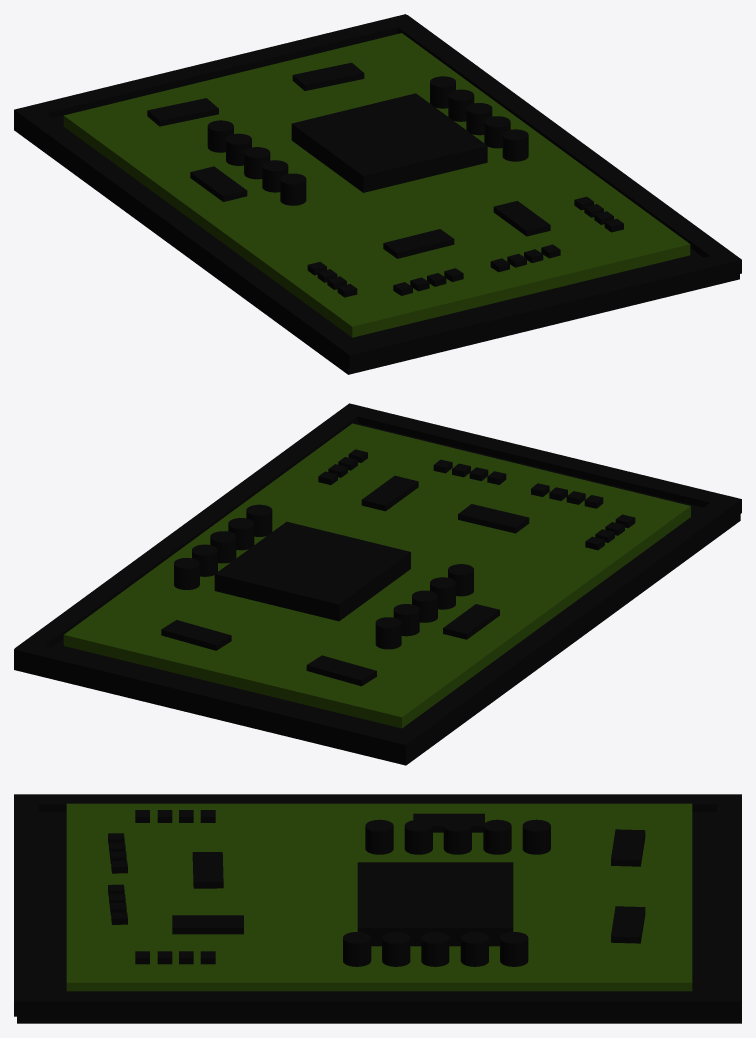
Rendered from PCB Board.fbx.
3 views of the same model, one above another, from view 1: azimuth 30°, elevation 25°; view 2: azimuth 150°, elevation 25°; view 3: azimuth 270°, elevation 25° (orthographic). The views are drawn at different scales.
Visible parts, largest first — view 1: Cube.005, Cube.014, Cube.001, Cube, Cube.003, Cube.004, Cube.002, Cube.012, Cube.011, Cube.015, Cube.006, Cube.013 (+10 smaller); view 2: Cube.005, Cube.014, Cube, Cube.002, Cube.003, Cube.004, Cube.001, Cube.011, Cube.012, Cube.015, Cube.006, Cube.013 (+10 smaller); view 3: Cube.005, Cube.004, Cube, Cube.014, Cube.003, Cube.002, Cube.001, Cube.006, Cube.015, Cube.012, Cube.011, Cylinder (+10 smaller).
Boxes of the visible parts, bbox=[...] form: Cube.005: bbox=[63, 33, 690, 337]; Cube.014: bbox=[291, 93, 487, 192]; Cube.001: bbox=[338, 251, 736, 368]; Cube: bbox=[14, 115, 739, 374]; Cube.003: bbox=[16, 106, 369, 368]; Cube.004: bbox=[390, 15, 741, 278]; Cube.002: bbox=[14, 14, 416, 126]; Cube.012: bbox=[292, 62, 364, 90]; Cube.011: bbox=[383, 229, 454, 258]; Cube.015: bbox=[147, 98, 218, 126]; Cube.006: bbox=[493, 201, 550, 236]; Cube.013: bbox=[190, 166, 247, 201]; Cube.005: bbox=[63, 423, 690, 728]; Cube.014: bbox=[214, 521, 410, 621]; Cube: bbox=[14, 423, 740, 765]; Cube.002: bbox=[14, 641, 417, 758]; Cube.003: bbox=[388, 496, 741, 743]; Cube.004: bbox=[15, 403, 357, 649]; Cube.001: bbox=[339, 403, 741, 513]; Cube.011: bbox=[458, 504, 529, 533]; Cube.012: bbox=[161, 620, 231, 650]; Cube.015: bbox=[306, 655, 376, 686]; Cube.006: bbox=[361, 475, 418, 511]; Cube.013: bbox=[443, 604, 499, 639]; Cube.005: bbox=[66, 803, 692, 991]; Cube.004: bbox=[14, 991, 738, 1016]; Cube: bbox=[17, 812, 741, 1023]; Cube.014: bbox=[357, 862, 513, 946]; Cube.003: bbox=[14, 794, 738, 811]; Cube.002: bbox=[717, 794, 741, 1015]; Cube.001: bbox=[14, 794, 38, 1001]; Cube.006: bbox=[172, 915, 243, 934]; Cube.015: bbox=[611, 829, 645, 866]; Cube.012: bbox=[611, 906, 645, 943]; Cube.011: bbox=[192, 852, 223, 888]; Cylinder: bbox=[365, 819, 393, 854].
Bounding box in the file's own units: 454 × 51.07 × 672.
